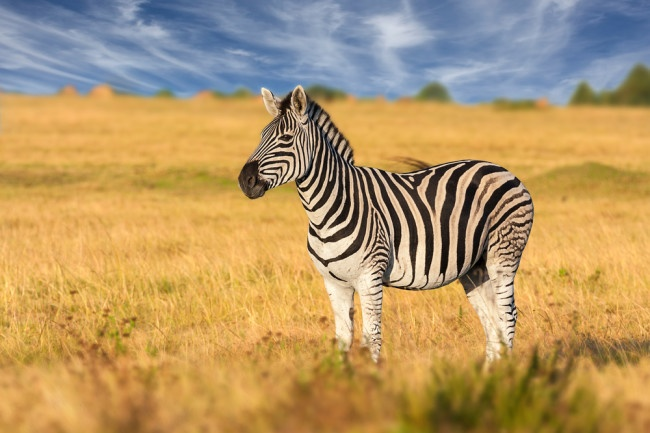zebra: (237, 85, 536, 372)
